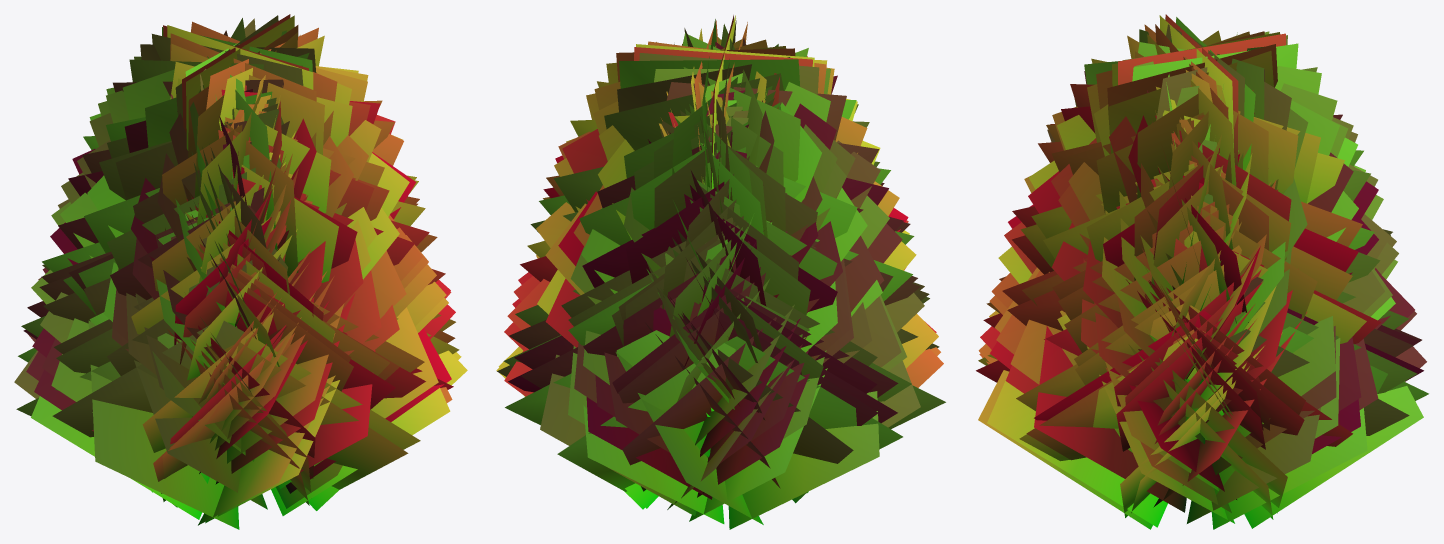
File: URP_P4_Tree_6_LOD_1.fbx
3 renders of one model, left to right at view 1: azimuth 30°, elevation 25°; view 2: azimuth 150°, elevation 25°; view 3: azimuth 270°, elevation 25°, orthographic.
Visible parts, largest first — view 1: Tree_6_LOD_1; view 2: Tree_6_LOD_1; view 3: Tree_6_LOD_1.
Part boxes in pixels (x1=…): Tree_6_LOD_1: x1=14, y1=14, x2=467, y2=529; Tree_6_LOD_1: x1=496, y1=15, x2=945, y2=529; Tree_6_LOD_1: x1=976, y1=14, x2=1428, y2=529.
Size of the model in its own units: 211 by 232 by 211.
